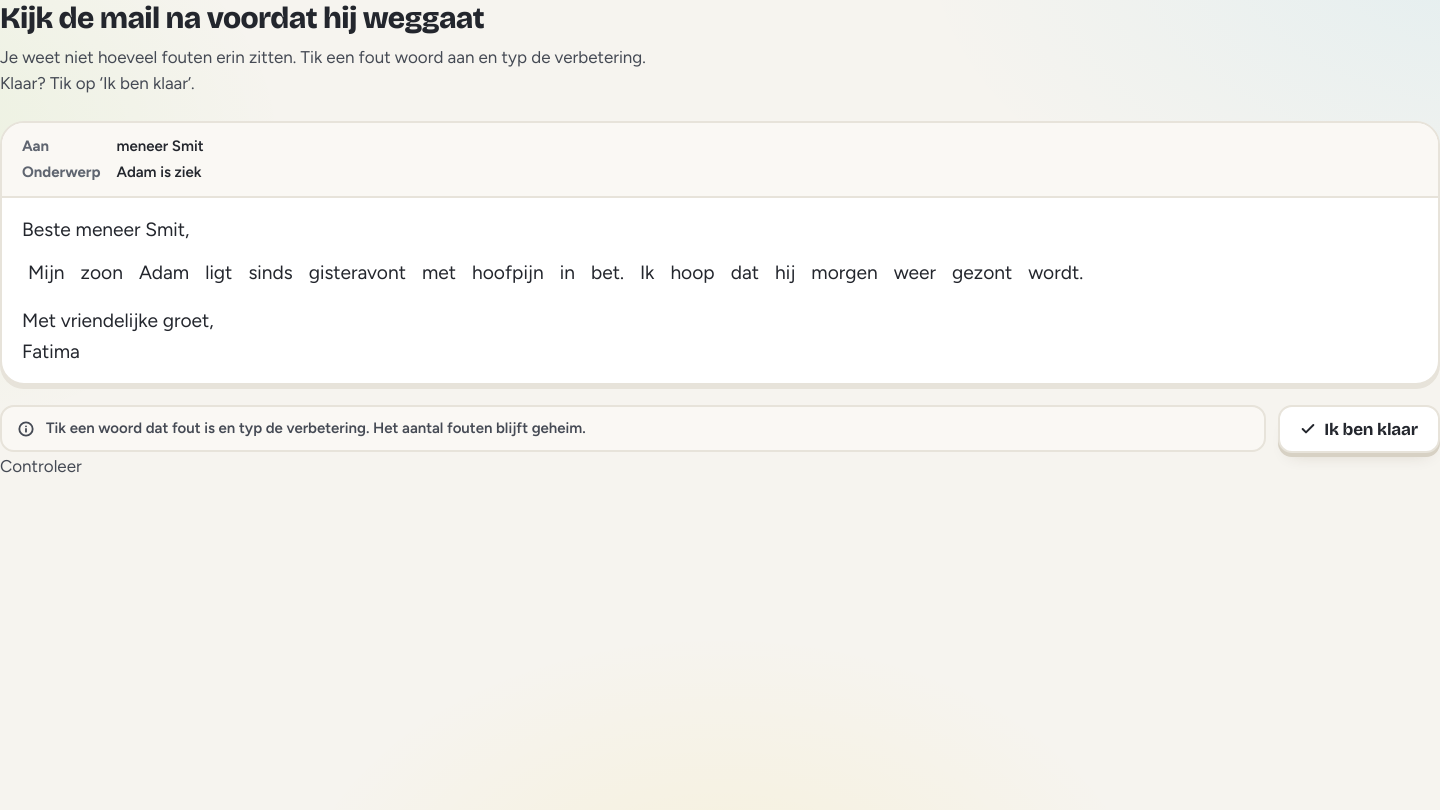
Test: lange spellingoefeningen › nakijken zonder hulp: je typt de verbetering zelf en zegt zelf dat je klaar bent
Expected: the text "Beste meneer Smit," is shown, 22,218 -> 189,241
// Een woord dat fout lijkt maar goed is: veranderen kost een misser en je krijgt de reden.
Click the button "ligt" at (219, 273), box 199,253 -> 238,293
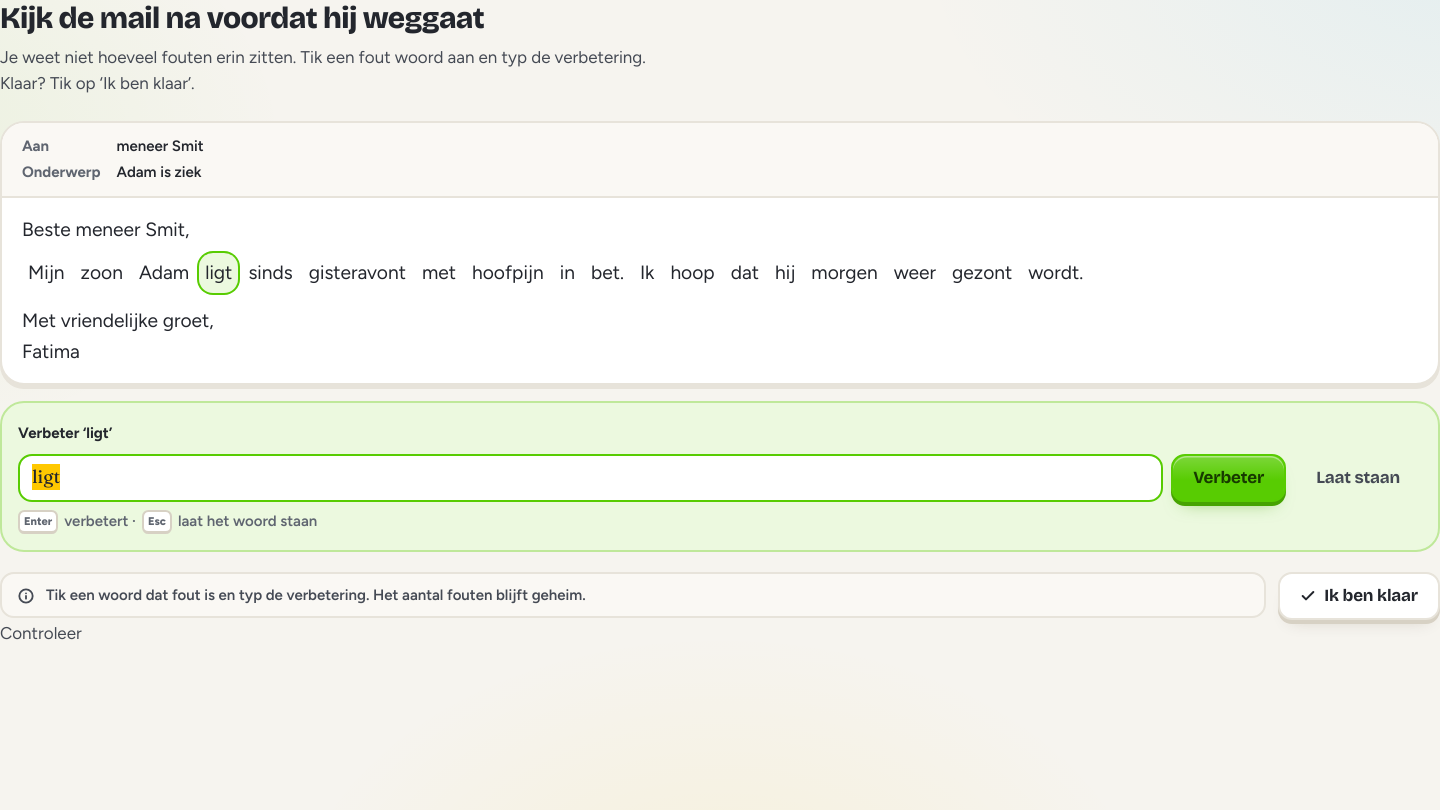
Replace the text in the field labelled "Verbeter ‘ligt’" with "licht" at (591, 478), box 18,454 -> 1163,502
Then press Enter
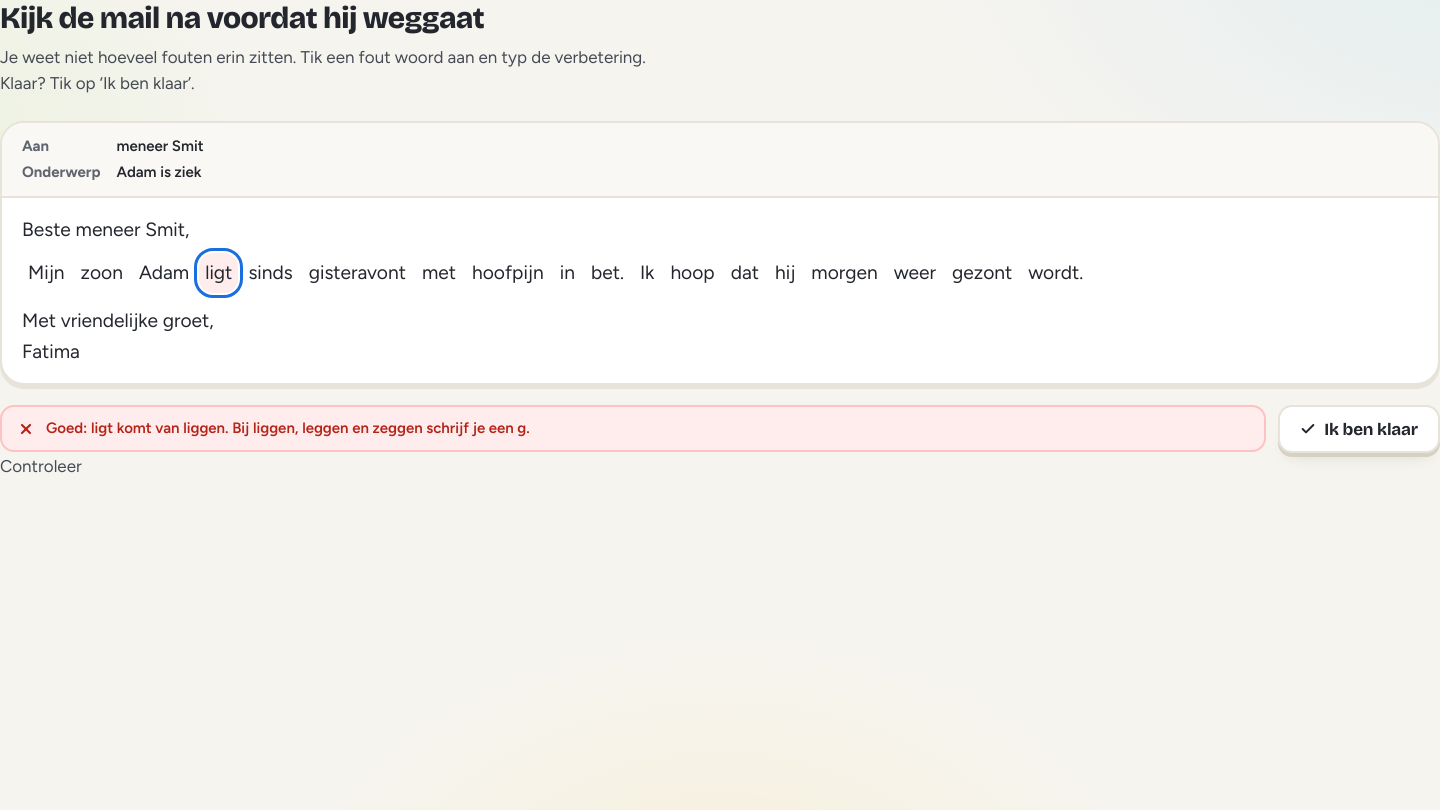
Expected: the text "ligt komt van liggen" is shown, 46,419 -> 530,437
// Een echte fout: verbeteren met de goede spelling.
Click the button "gisteravont" at (357, 273), box 303,253 -> 412,293
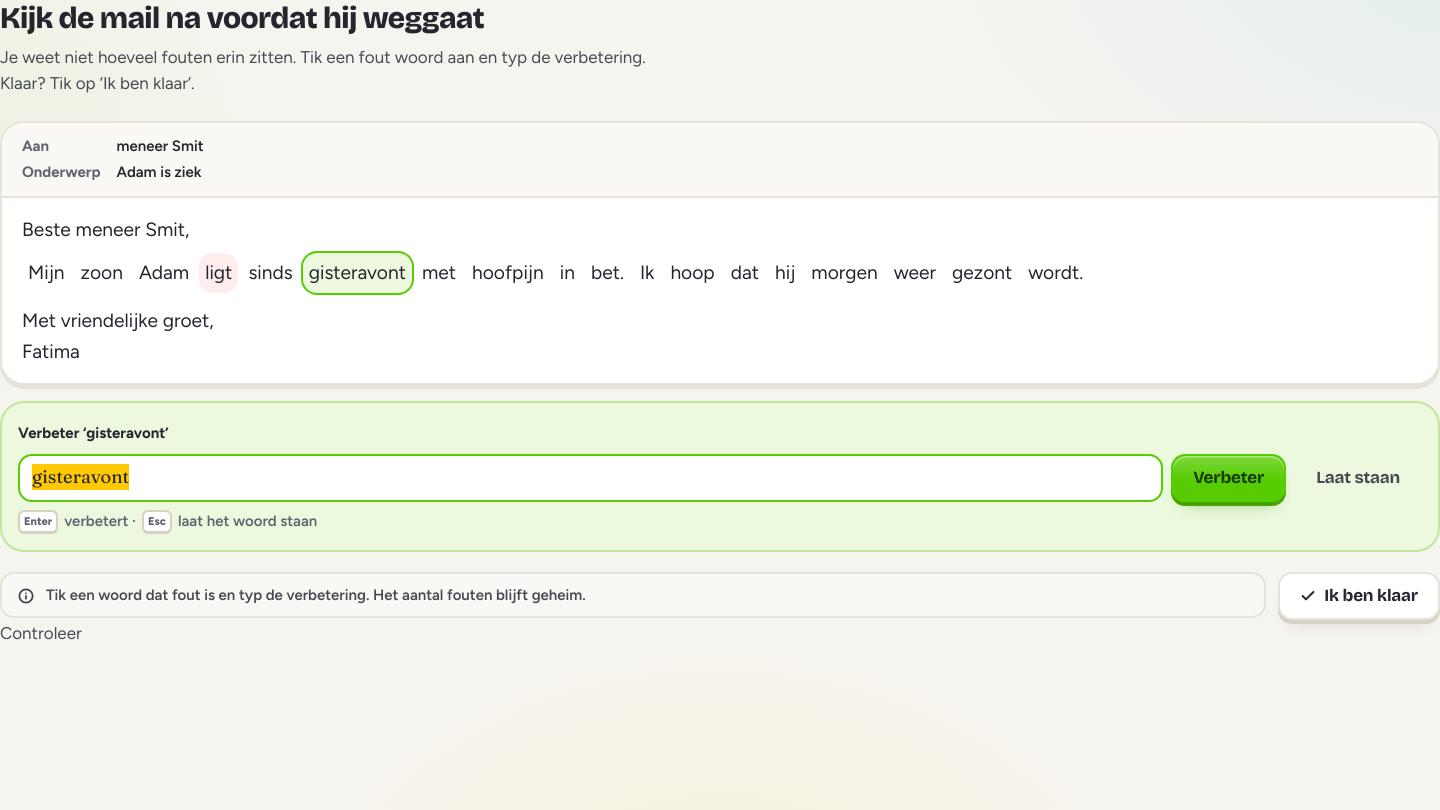
Replace the text in the field labelled "Verbeter ‘gisteravont’" with "gisteravond" at (591, 478), box 18,454 -> 1163,502
Then press Enter
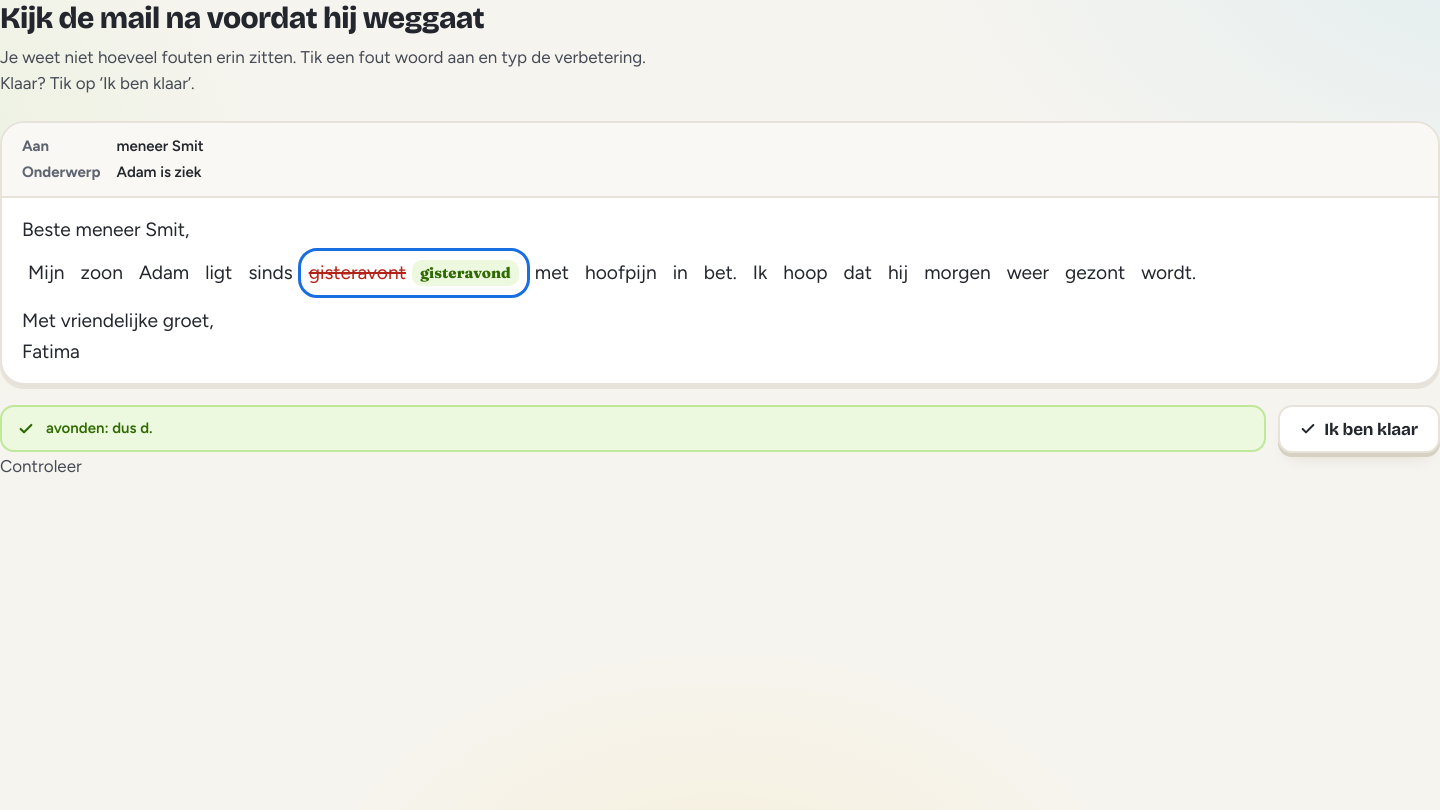
Click the button "Ik ben klaar" at (1359, 429), box 1278,405 -> 1439,453
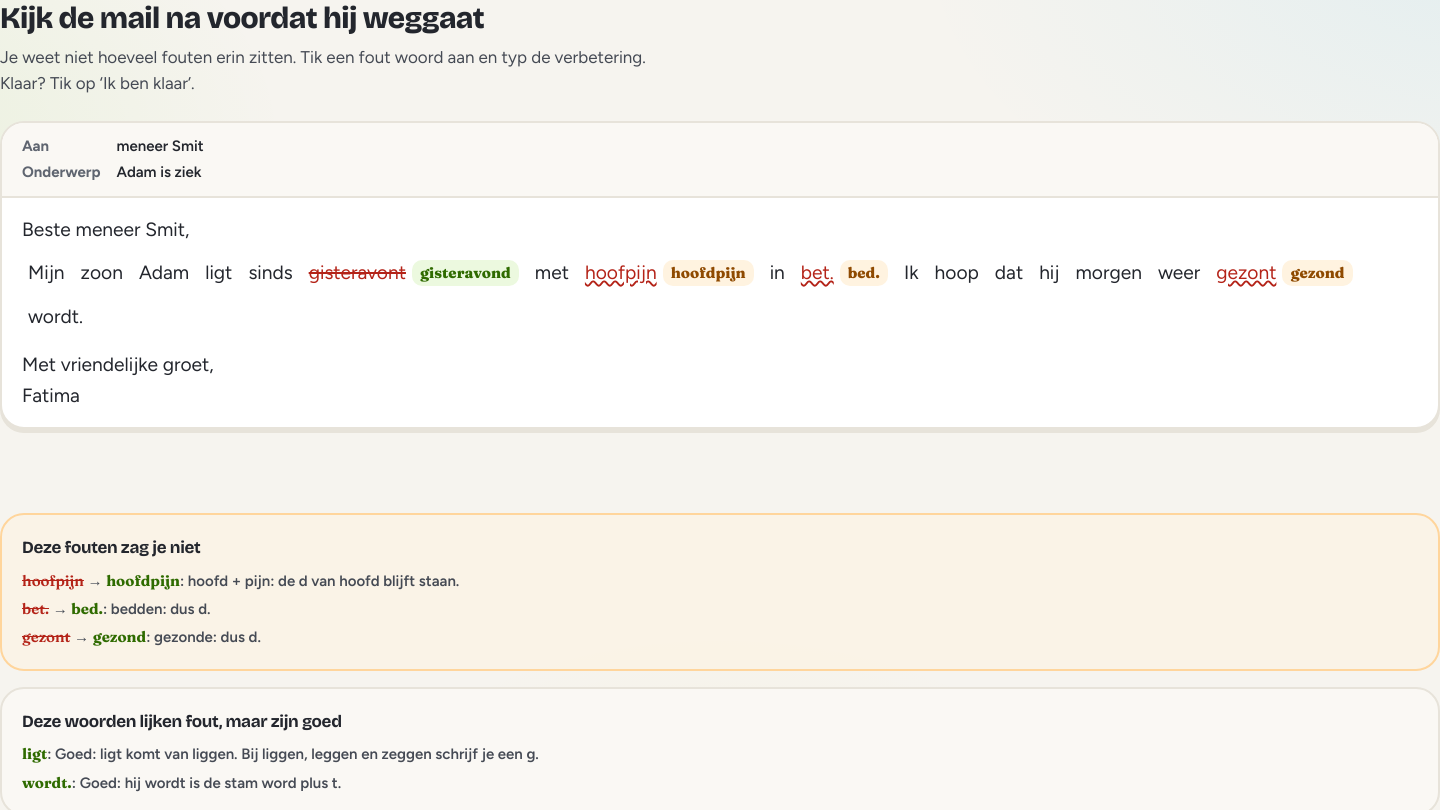
Expected: the heading "Deze fouten zag je niet" is shown, 22,537 -> 200,558
Expected: the heading "Deze woorden lijken fout, maar zijn goed" is shown, 22,711 -> 342,732
